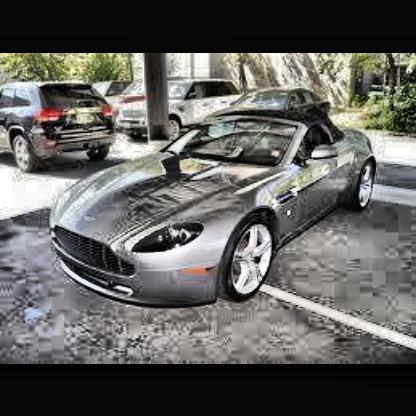Aston Martin V8 Vantage Convertible 2012: (51, 110, 380, 313)
